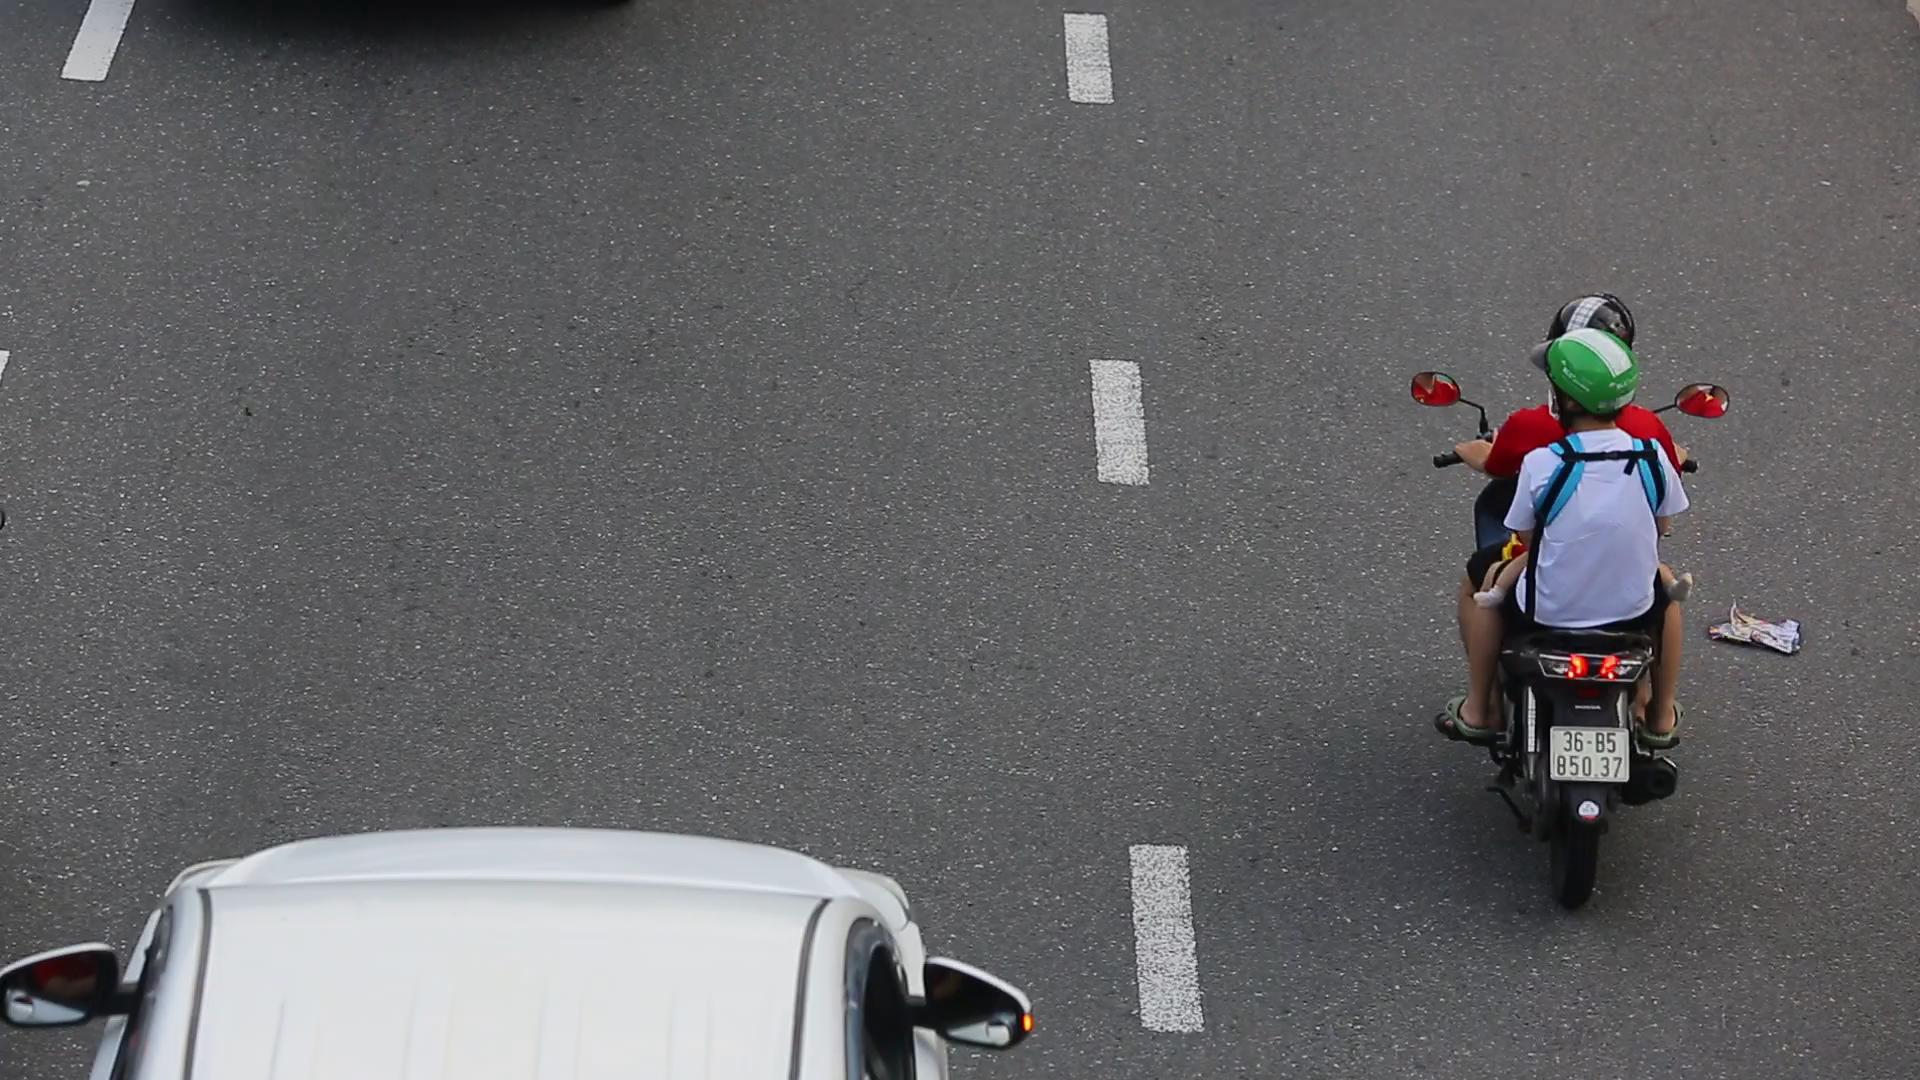motobike: (1386, 278, 1771, 936)
